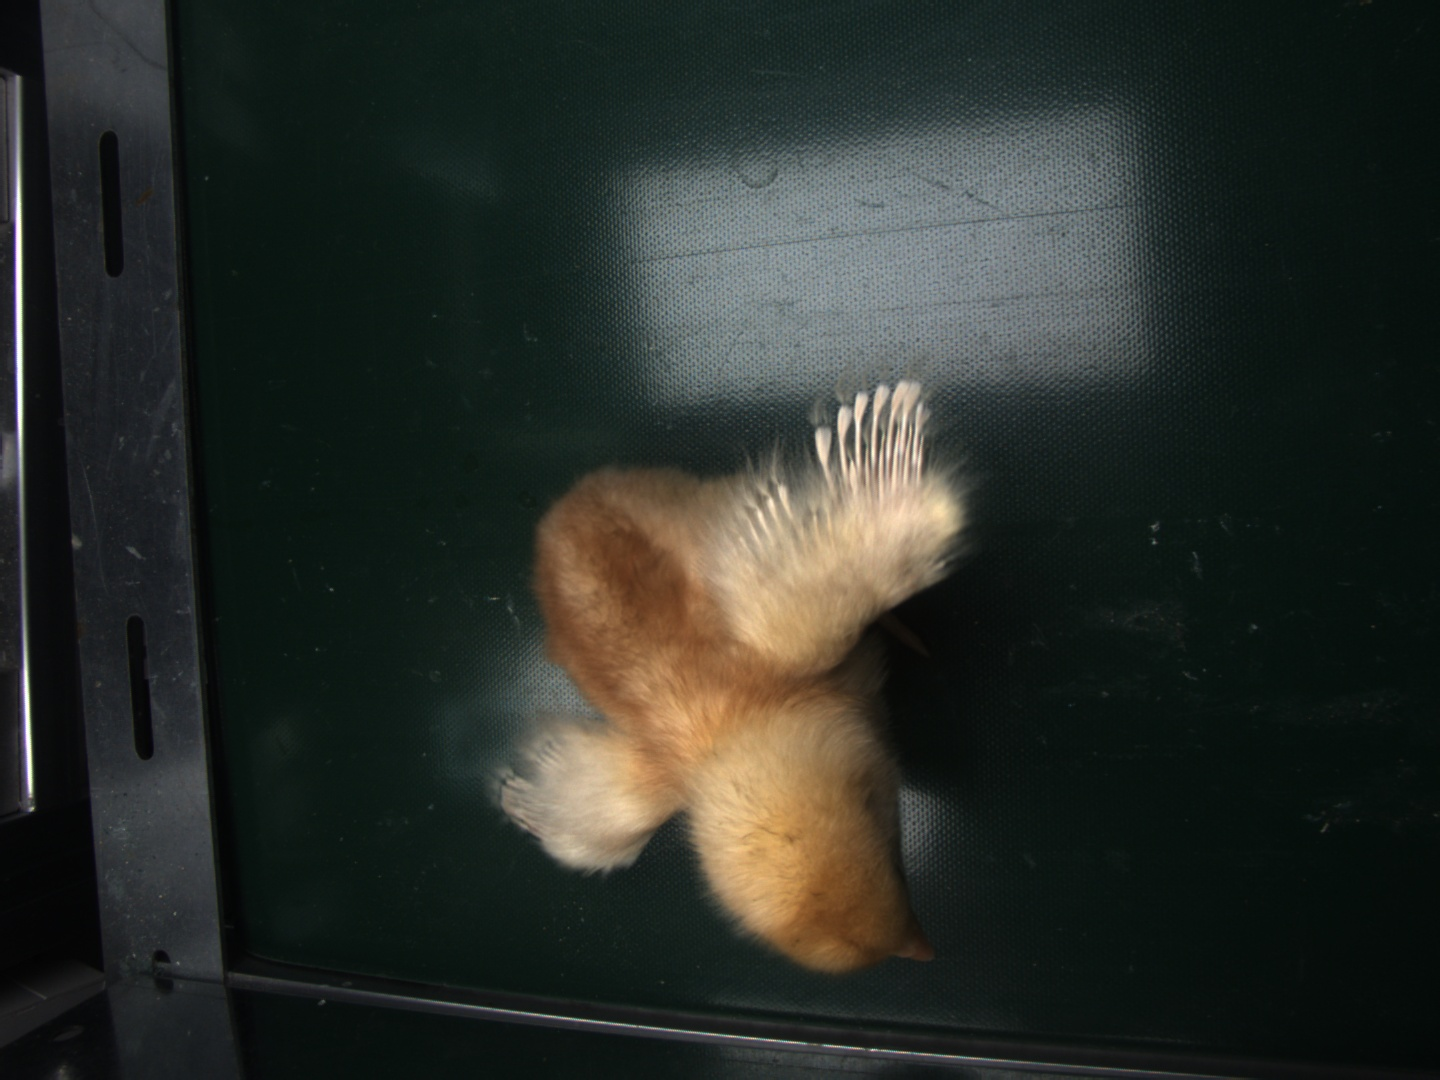female: (824, 378, 927, 480)
